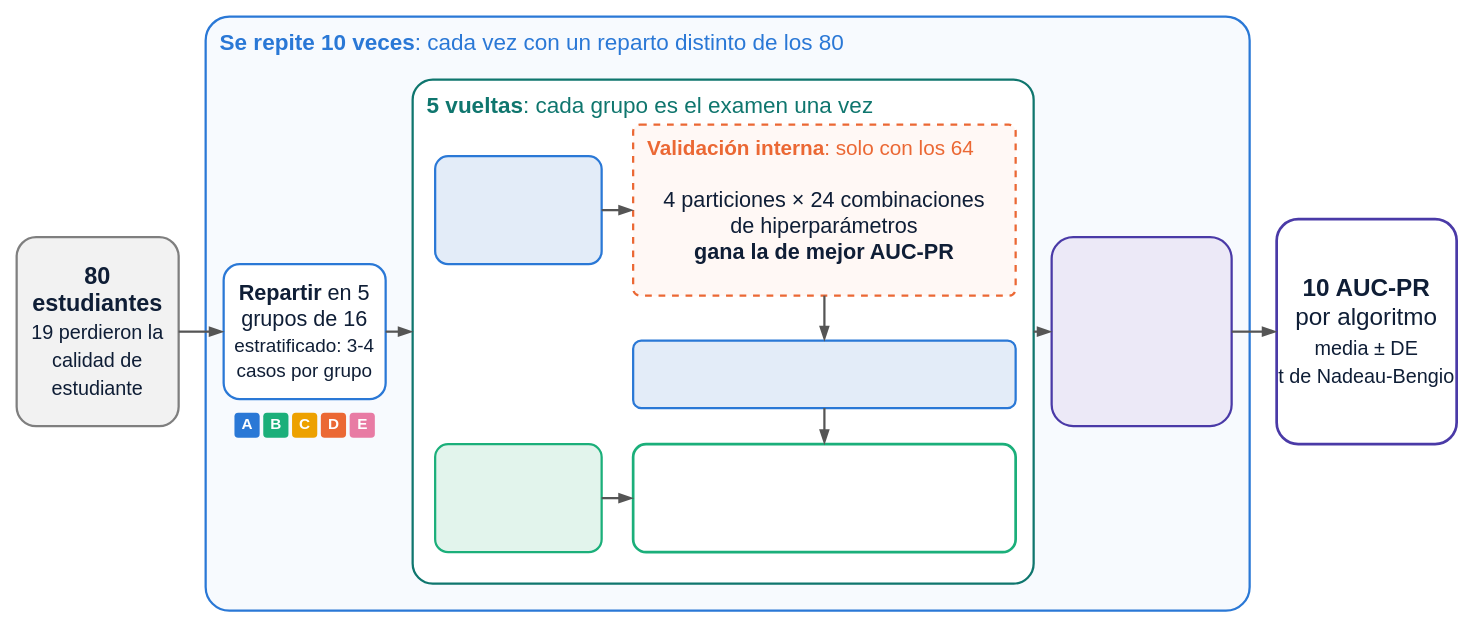
The diagram is 1473 pixels wide and 627 high, and some of its shapes have lost their labels. The centre of each missing label's shape, as x and y in pixels:
16 de examen 1 grupo, apartado: point 518,498
64 entrenan 4 grupos: point 518,210
80 predicciones fuera de muestra → 1 AUC-PR: point 1141,331
Predecir a los 16 nunca participaron en la elección: point 824,497
Reentrenar la ganadora con los 64: point 824,374
